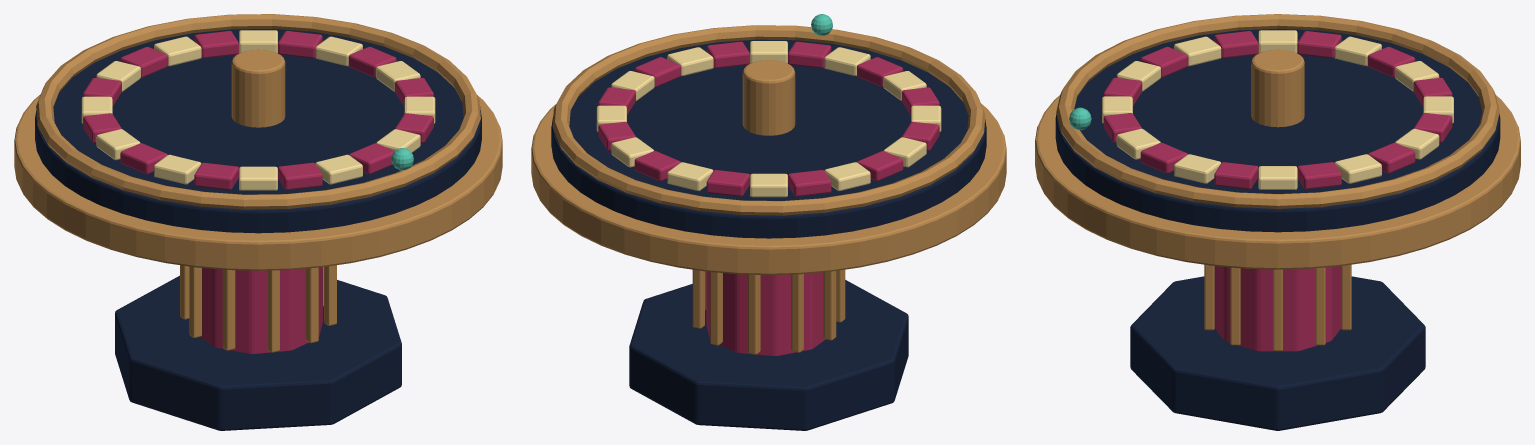
Rendered from Roulette.fbx.
The picture shows the model from 3 angles, left to right: view 1: azimuth 30°, elevation 25°; view 2: azimuth 150°, elevation 25°; view 3: azimuth 270°, elevation 25°; orthographic projection. The views are drawn at different scales.
Parts seen in each view (by area): view 1: Roulette.Wheel.Mesh, Roulette.Mesh; view 2: Roulette.Wheel.Mesh, Roulette.Mesh; view 3: Roulette.Wheel.Mesh, Roulette.Mesh.
Part boxes in pixels (x1,y1,x2,y2): Roulette.Wheel.Mesh: (35, 14, 481, 233); Roulette.Mesh: (14, 94, 502, 430); Roulette.Wheel.Mesh: (551, 25, 986, 238); Roulette.Mesh: (531, 14, 1006, 430); Roulette.Wheel.Mesh: (1055, 14, 1500, 232); Roulette.Mesh: (1035, 95, 1520, 430).
Size of the model in its own units: 236 by 166 by 236.
